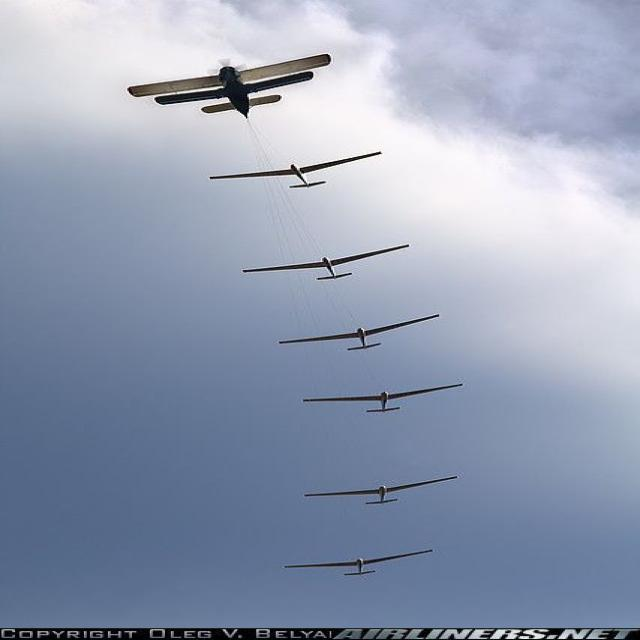iha: (208, 150, 382, 189), (278, 307, 440, 346), (241, 243, 410, 280), (301, 382, 465, 413), (123, 20, 336, 26)
